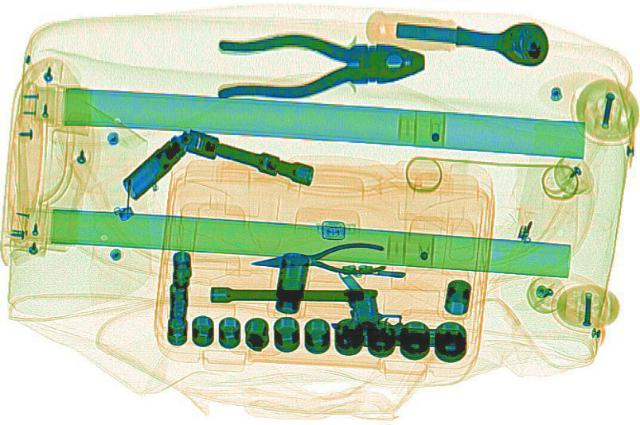Gun: (330, 287, 464, 346)
Pliers: (212, 31, 426, 97), (246, 240, 386, 277)
